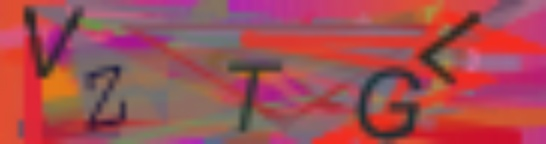G: (354, 64, 422, 141)
L: (415, 9, 485, 86)
T: (219, 57, 283, 134)
V: (16, 2, 89, 81)
Z: (81, 59, 137, 132)
